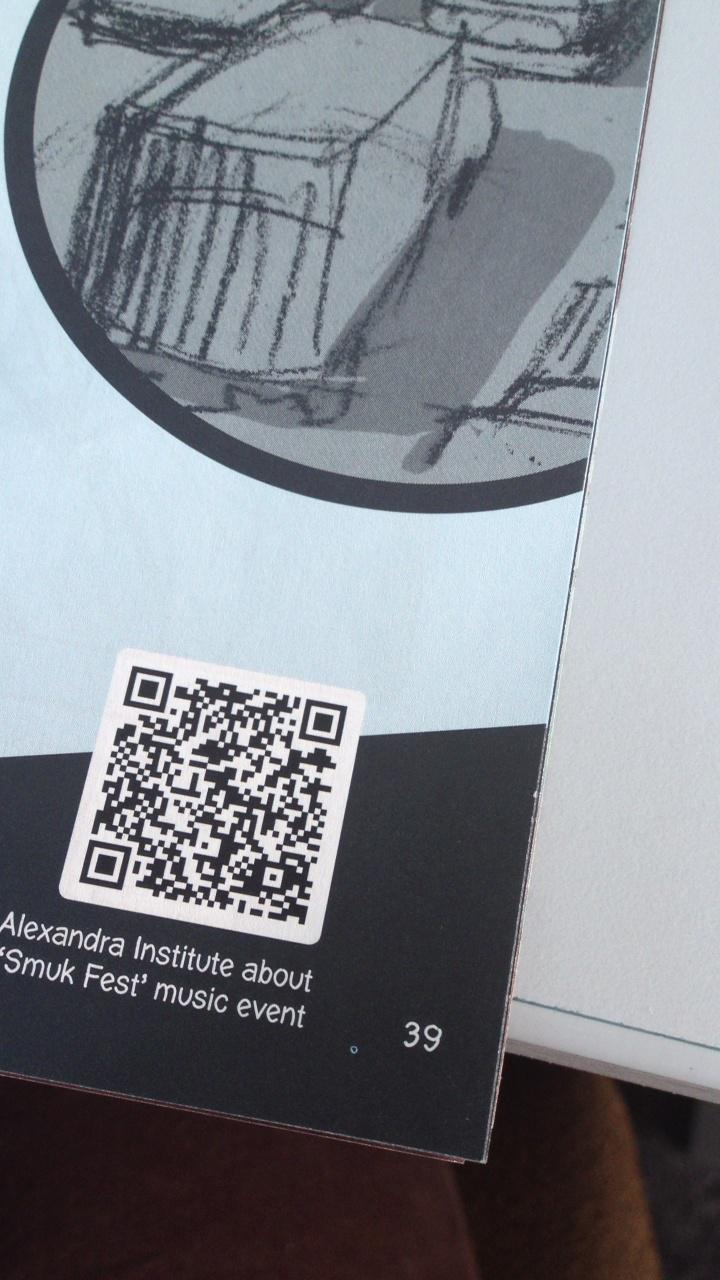Finder pattern: (76, 838, 134, 893), (295, 695, 349, 748), (124, 661, 175, 717)
